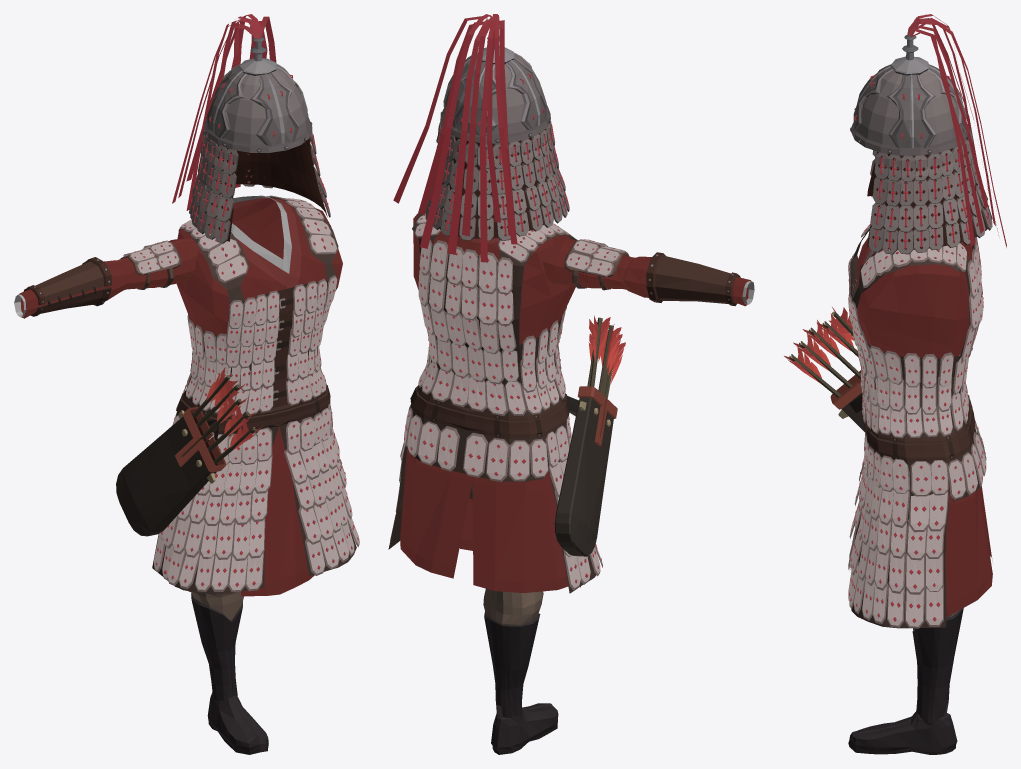
Rendered from qingDynastyWarriorFemale.glb.
The picture shows the model from 3 angles, left to right: view 1: azimuth 30°, elevation 25°; view 2: azimuth 150°, elevation 25°; view 3: azimuth 270°, elevation 25°; orthographic projection. The views are drawn at different scales.
Parts seen in each view (by area): view 1: qingDynastyWarriorBody, qingDynastyWarriorHelmet, qingDynastyWarriorQuiver, qingDynastyWarriorLowerArm, qingDynastyWarriorPantsLowerLeg, qingDynastyWarriorUpperArm, qingDynastyWarriorFoot; view 2: qingDynastyWarriorBody, qingDynastyWarriorHelmet, qingDynastyWarriorQuiver, qingDynastyWarriorPantsLowerLeg, qingDynastyWarriorLowerArm, qingDynastyWarriorUpperArm, qingDynastyWarriorFoot; view 3: qingDynastyWarriorBody, qingDynastyWarriorHelmet, qingDynastyWarriorQuiver, qingDynastyWarriorPantsLowerLeg, qingDynastyWarriorFoot.
Boxes of the visible parts, box(x1,y1,x2,y2) form: qingDynastyWarriorBody: box(152, 195, 359, 596); qingDynastyWarriorHelmet: box(172, 14, 330, 243); qingDynastyWarriorQuiver: box(116, 367, 262, 536); qingDynastyWarriorLowerArm: box(14, 257, 130, 318); qingDynastyWarriorPantsLowerLeg: box(191, 592, 243, 701); qingDynastyWarriorUpperArm: box(117, 238, 198, 289); qingDynastyWarriorFoot: box(207, 692, 268, 754); qingDynastyWarriorBody: box(388, 213, 602, 593); qingDynastyWarriorHelmet: box(393, 14, 569, 262); qingDynastyWarriorQuiver: box(554, 315, 625, 556); qingDynastyWarriorPantsLowerLeg: box(483, 588, 543, 717); qingDynastyWarriorLowerArm: box(622, 252, 754, 306); qingDynastyWarriorUpperArm: box(542, 237, 633, 290); qingDynastyWarriorFoot: box(491, 703, 558, 754); qingDynastyWarriorBody: box(848, 224, 992, 628); qingDynastyWarriorHelmet: box(850, 14, 1006, 254); qingDynastyWarriorQuiver: box(784, 307, 984, 451); qingDynastyWarriorPantsLowerLeg: box(912, 608, 963, 724); qingDynastyWarriorFoot: box(848, 711, 957, 754).
Size of the model in its own units: 1.06 by 2.12 by 0.5807.
